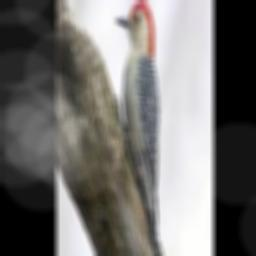Woodpecker: (115, 0, 167, 256)
